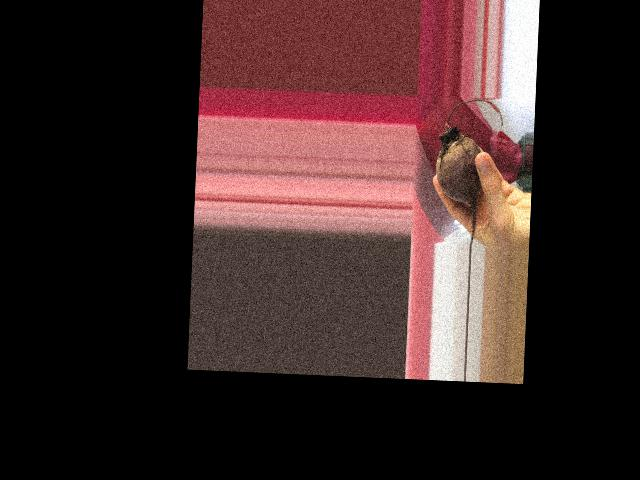beet: (432, 97, 504, 246)
